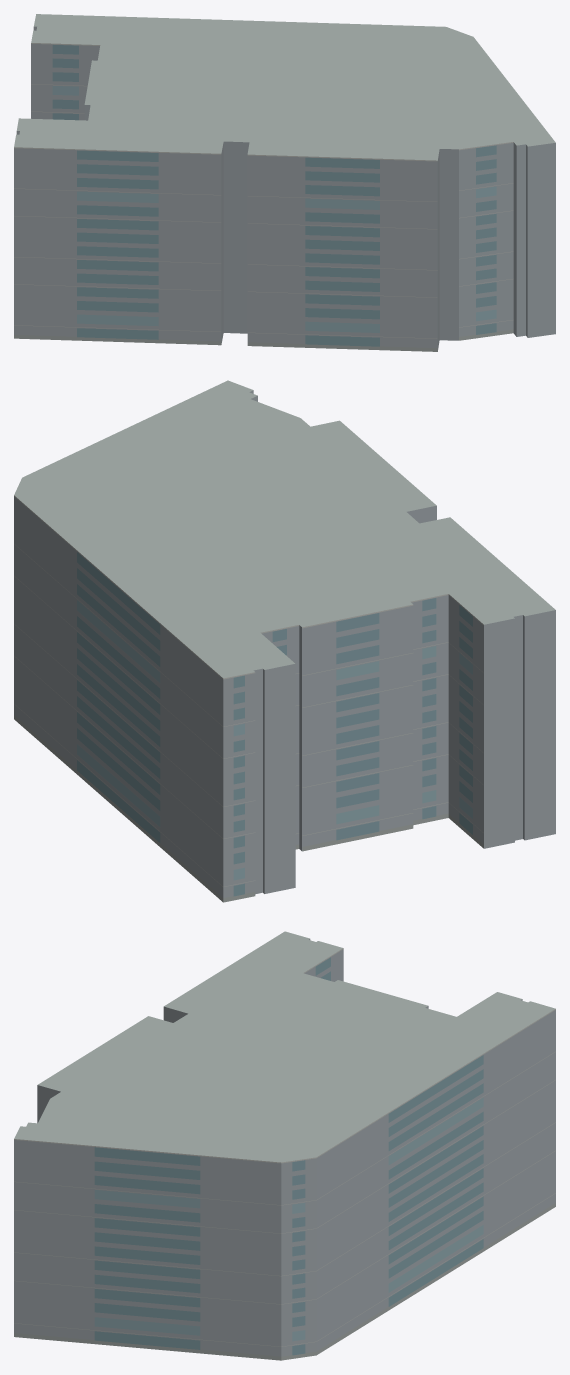
File: survey-upis-32741200.glb
3 views of the same model, one above another, from view 1: azimuth 30°, elevation 25°; view 2: azimuth 150°, elevation 25°; view 3: azimuth 270°, elevation 25° (orthographic). The views are drawn at different scales.
Parts seen in each view (by area): view 1: survey-upis-32741200.tmp; view 2: survey-upis-32741200.tmp; view 3: survey-upis-32741200.tmp.
Boxes of the visible parts, bbox=[...] form: survey-upis-32741200.tmp: bbox=[14, 14, 555, 351]; survey-upis-32741200.tmp: bbox=[14, 380, 555, 902]; survey-upis-32741200.tmp: bbox=[14, 931, 555, 1360].
Bounding box in the file's own units: 121 × 48.32 × 120.
